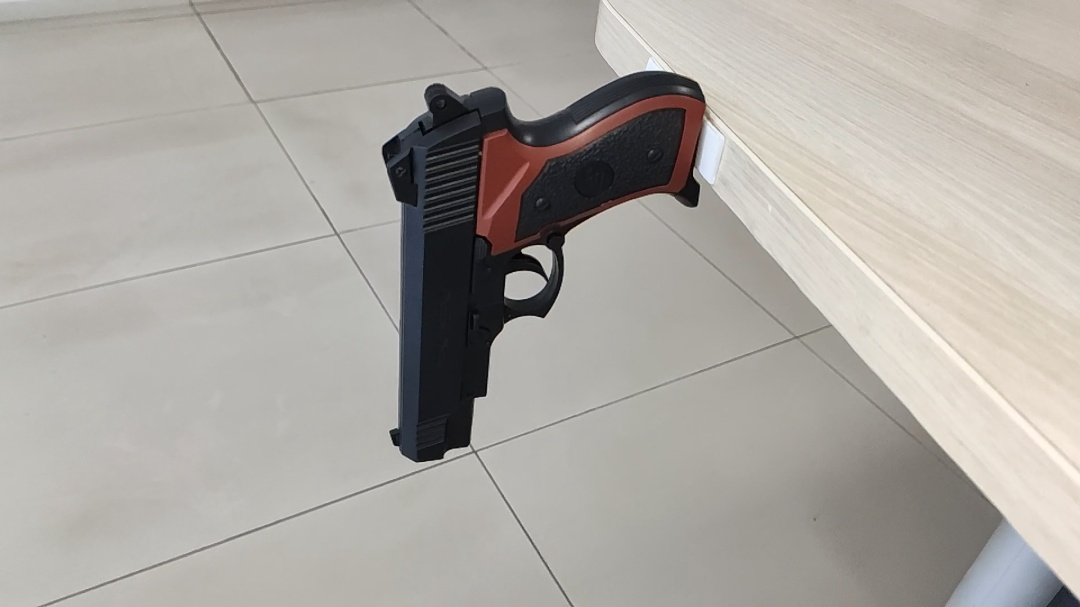gun: (375, 68, 712, 465)
